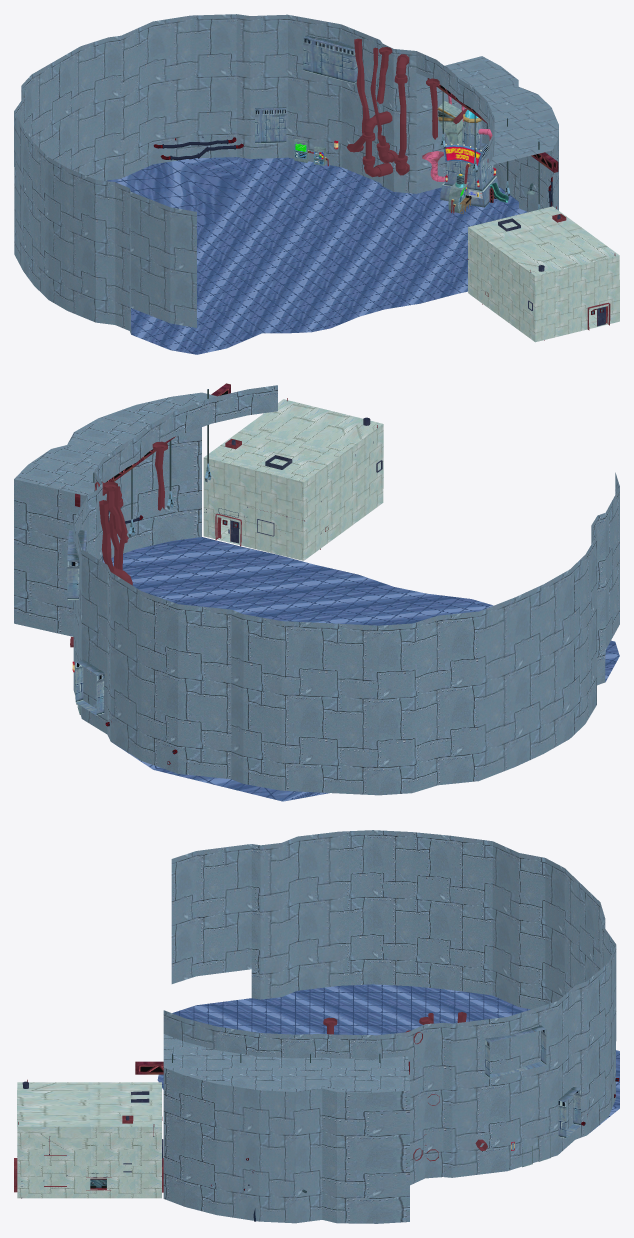
Rendered from baldecarnada.glb.
3 renders of one model, top to bottom at view 1: azimuth 30°, elevation 25°; view 2: azimuth 150°, elevation 25°; view 3: azimuth 270°, elevation 25°, orthographic. The views are drawn at different scales.
Visible parts, largest first — view 1: Object_15, Object_17, Object_2, Object_13, Object_7, Object_16, Object_6, Object_8, Object_14; view 2: Object_15, Object_2, Object_17, Object_7, Object_13, Object_16, Object_4; view 3: Object_15, Object_2, Object_17, Object_13, Object_7.
Part boxes in pixels (x1,y1,x2,y2): Object_15: (14, 14, 558, 334); Object_17: (107, 157, 528, 354); Object_2: (468, 206, 619, 342); Object_13: (255, 35, 498, 207); Object_7: (309, 38, 606, 325); Object_16: (294, 91, 540, 212); Object_6: (153, 136, 552, 206); Object_8: (427, 78, 558, 202); Object_14: (422, 95, 492, 181); Object_15: (14, 385, 619, 795); Object_2: (203, 399, 383, 560); Object_17: (103, 537, 619, 801); Object_7: (70, 441, 230, 647); Object_13: (67, 530, 104, 715); Object_16: (72, 389, 211, 714); Object_4: (204, 401, 382, 543); Object_15: (163, 830, 616, 1223); Object_2: (17, 1082, 161, 1198); Object_17: (157, 984, 619, 1132); Object_13: (485, 1025, 580, 1138); Object_7: (323, 1012, 487, 1161).
Bounding box in the file's own units: 636 × 196 × 681.
17 materials, 17 textured.
